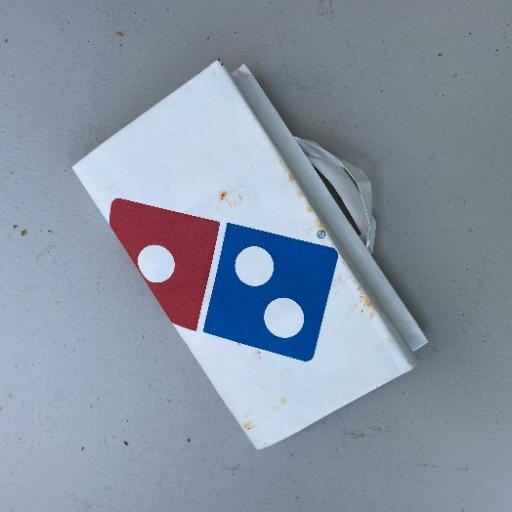Cardboard: (70, 58, 428, 452)
